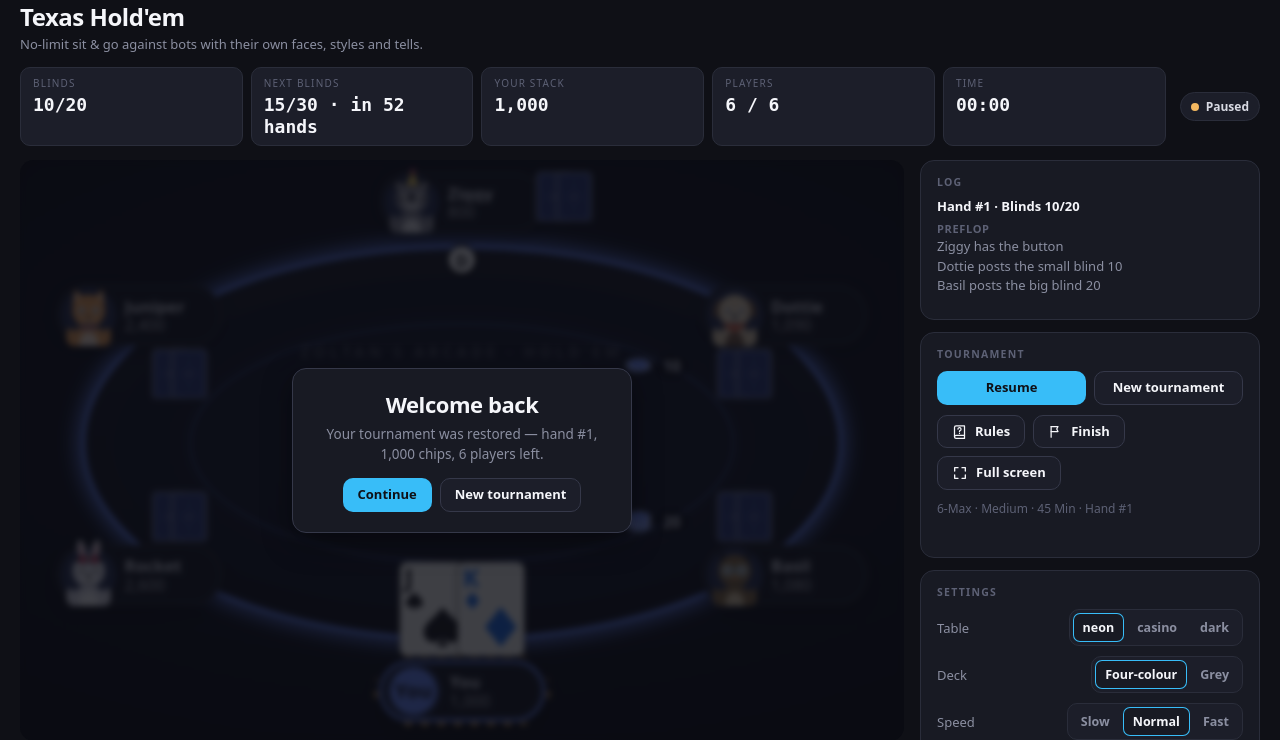
Hold’em touch controls › tapping a preset sets the amount (All-in)
The width and height of the screenshot is (1280, 740).
Click the button "Continue": (387, 495) 342,478 -> 432,512
(page scrolled)
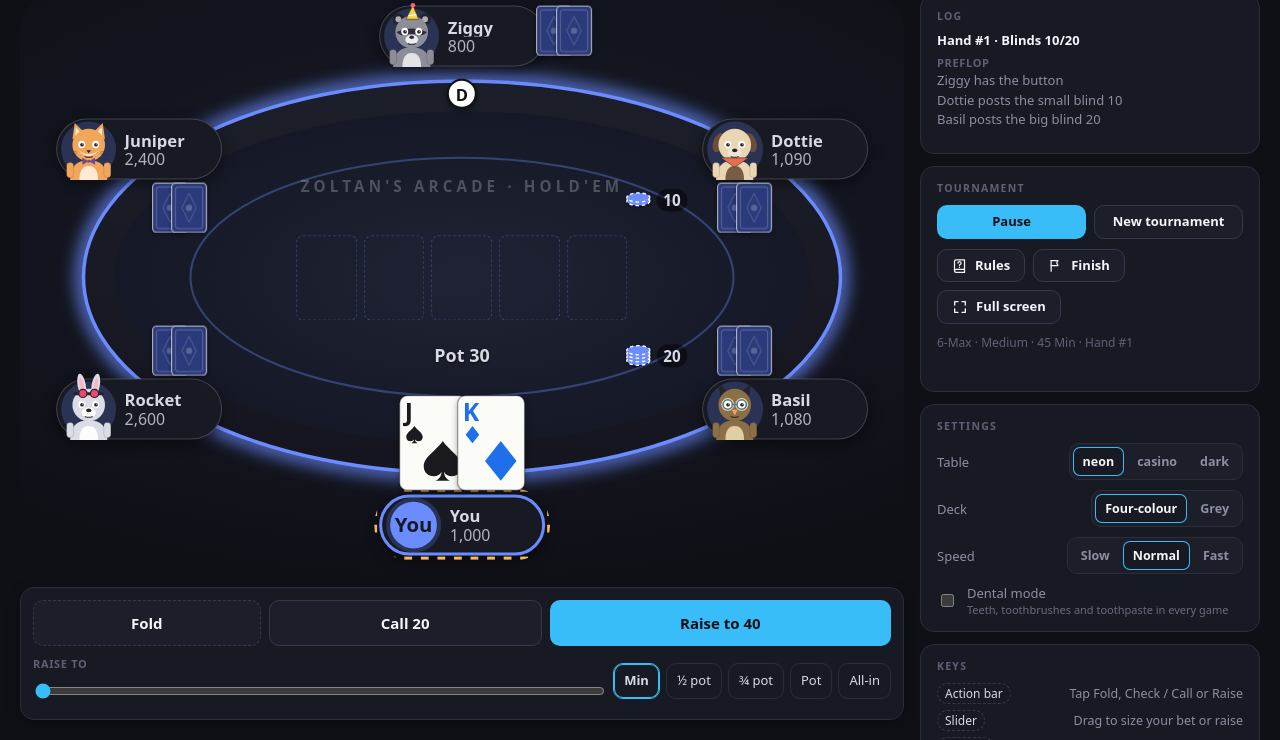
Click the button "All-in": (865, 681) 838,663 -> 891,699
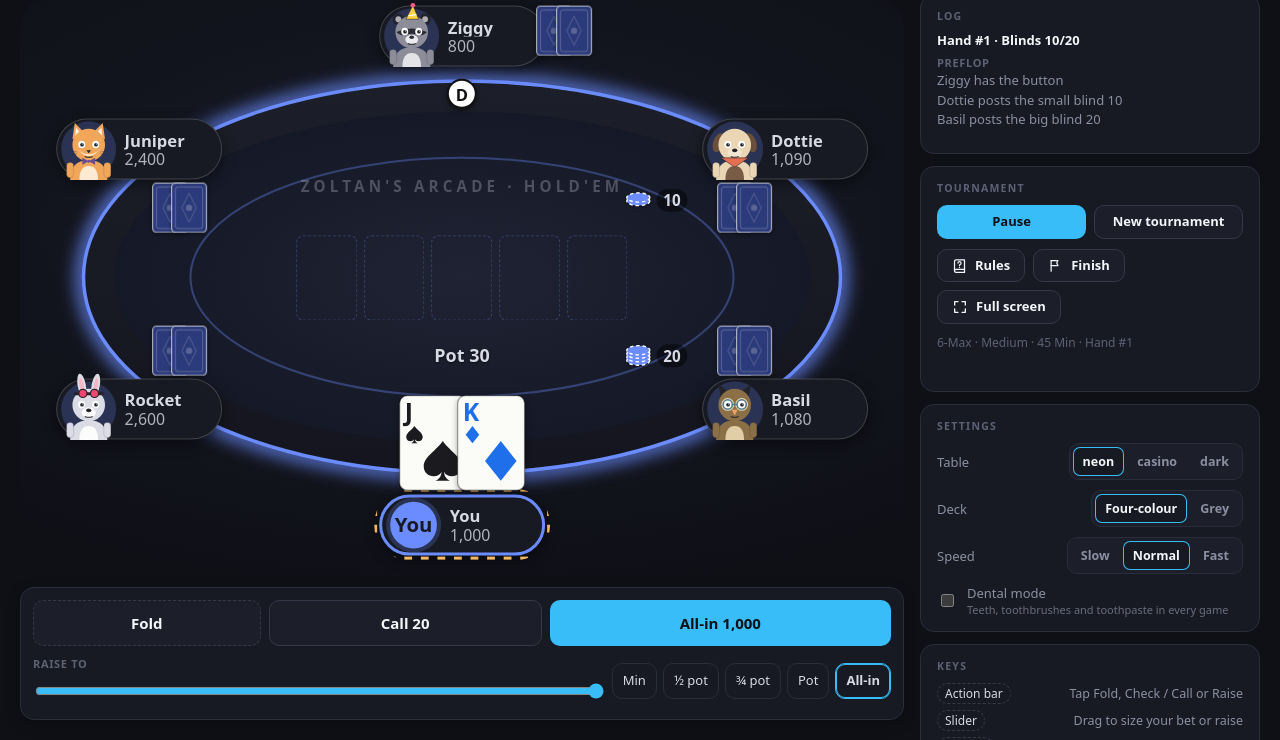
Check: the button "All-in 1,000" is shown, box 550,600 -> 891,646
